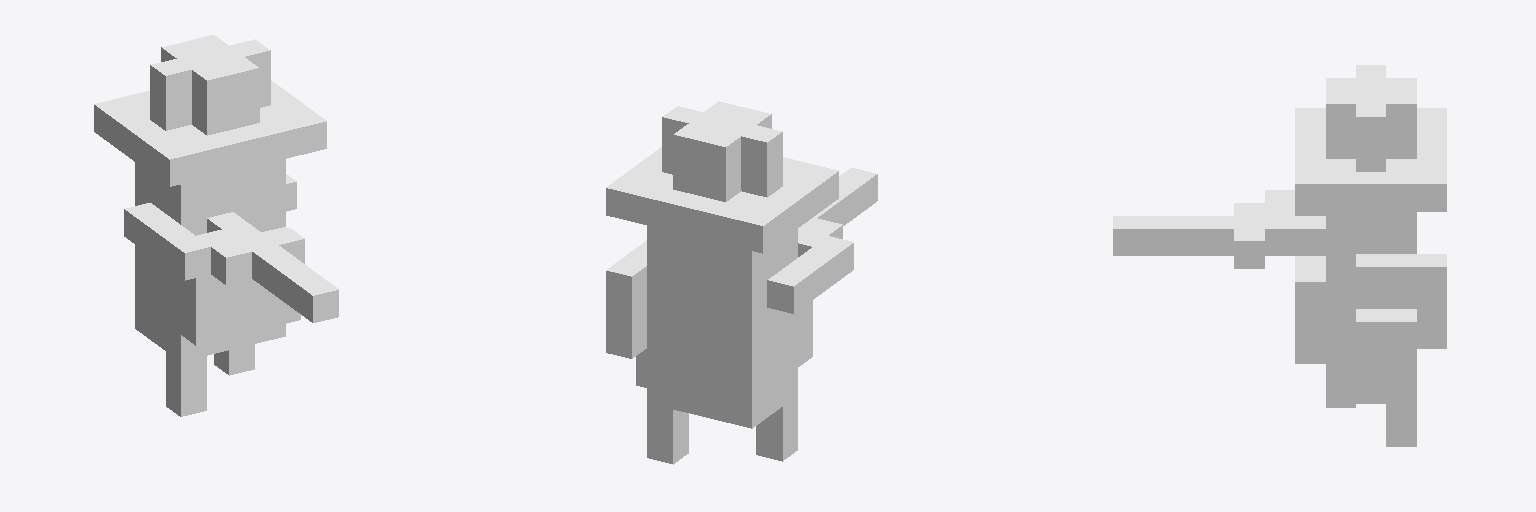
The model's file is dash.obj.
3 renders of one model, left to right at view 1: azimuth 30°, elevation 25°; view 2: azimuth 150°, elevation 25°; view 3: azimuth 270°, elevation 25°, orthographic.
Size of the model in its own units: 6 by 12 by 11.